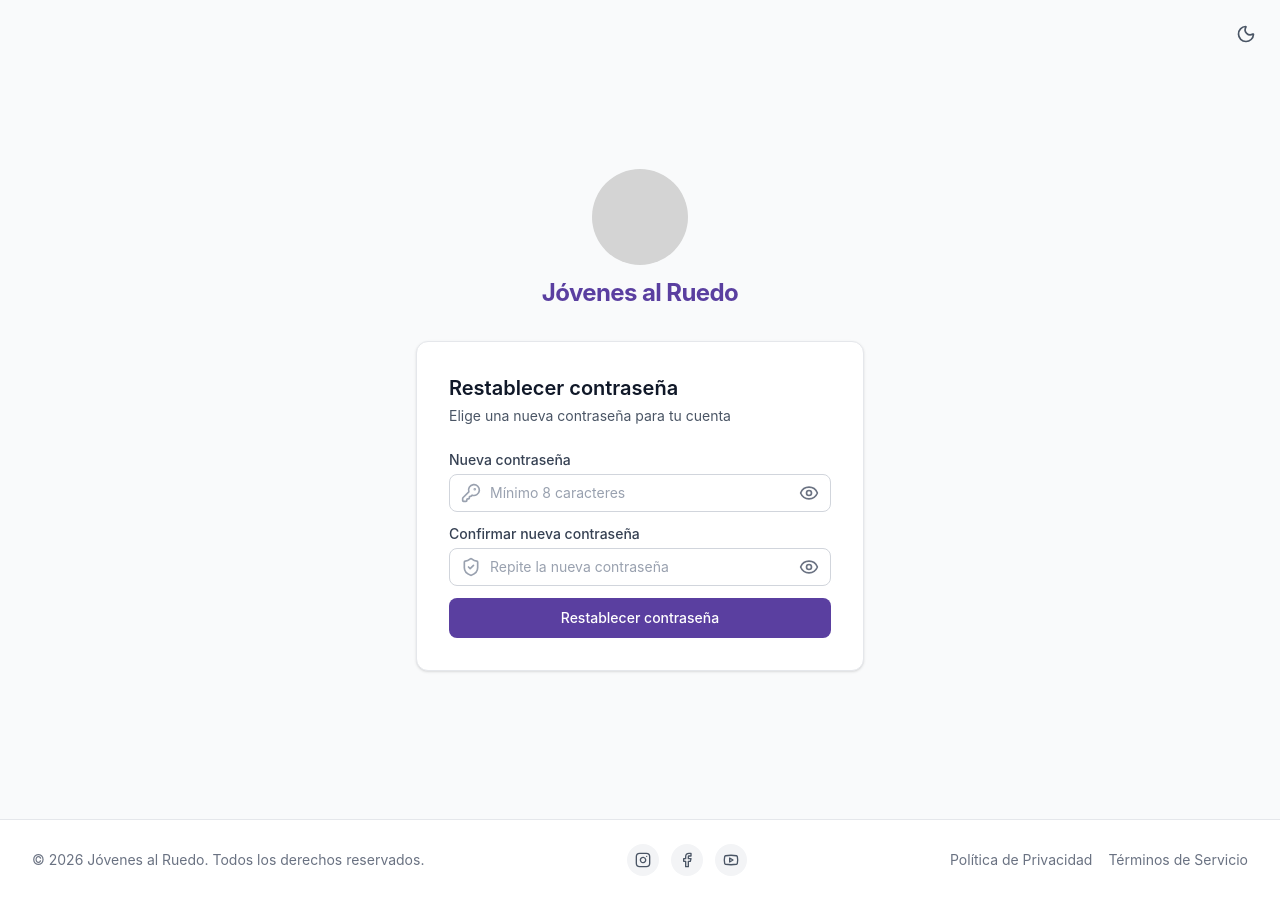
Test: ResetPasswordPage › muestra mensaje de éxito al restablecer contraseña
The width and height of the screenshot is (1280, 900).
Type "NewPass1!" into the password field labelled "Nueva contraseña" at coordinates (640, 492), box [449,474,831,512]
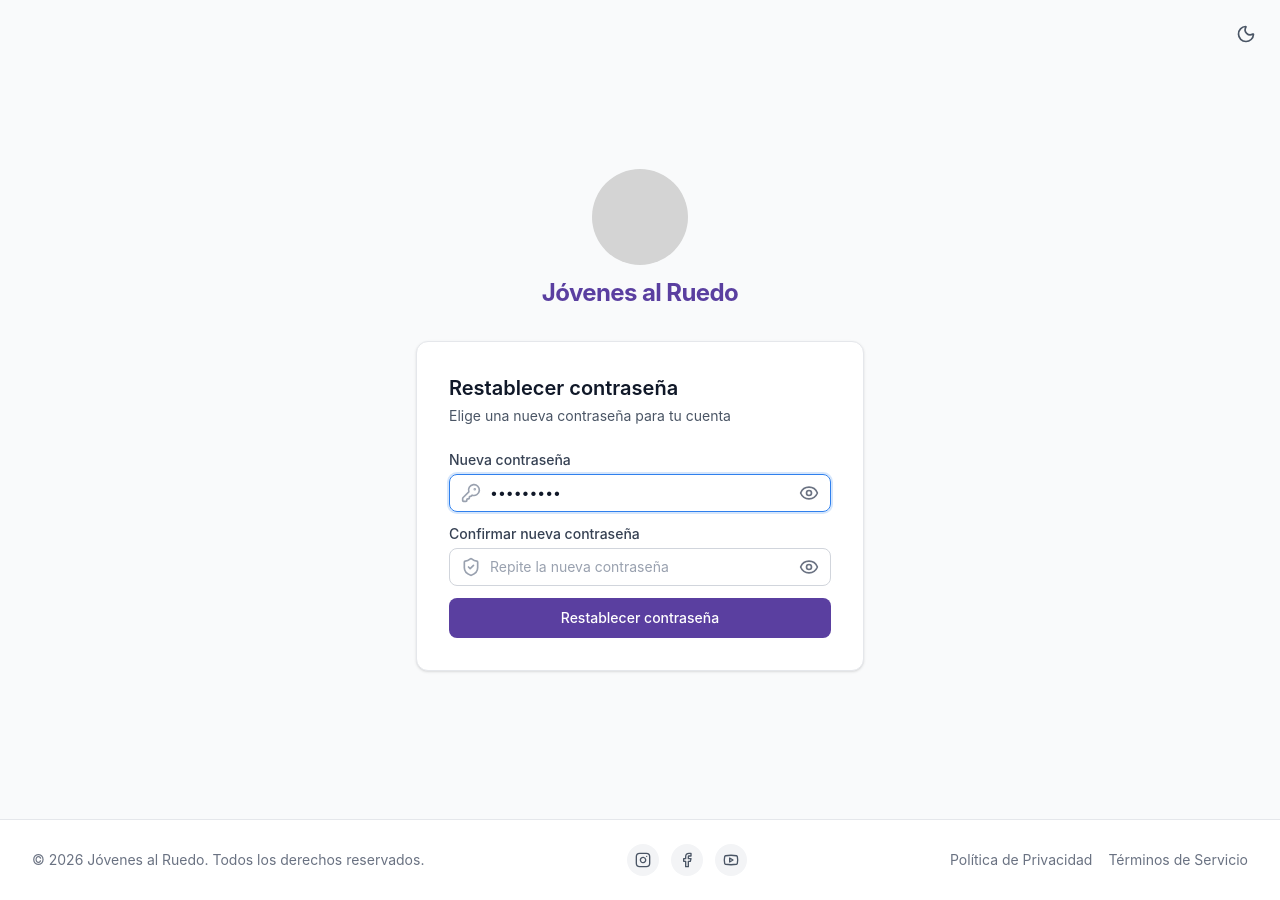
Type "NewPass1!" into the password field labelled "Confirmar nueva contraseña" at coordinates (640, 566), box [449,548,831,586]
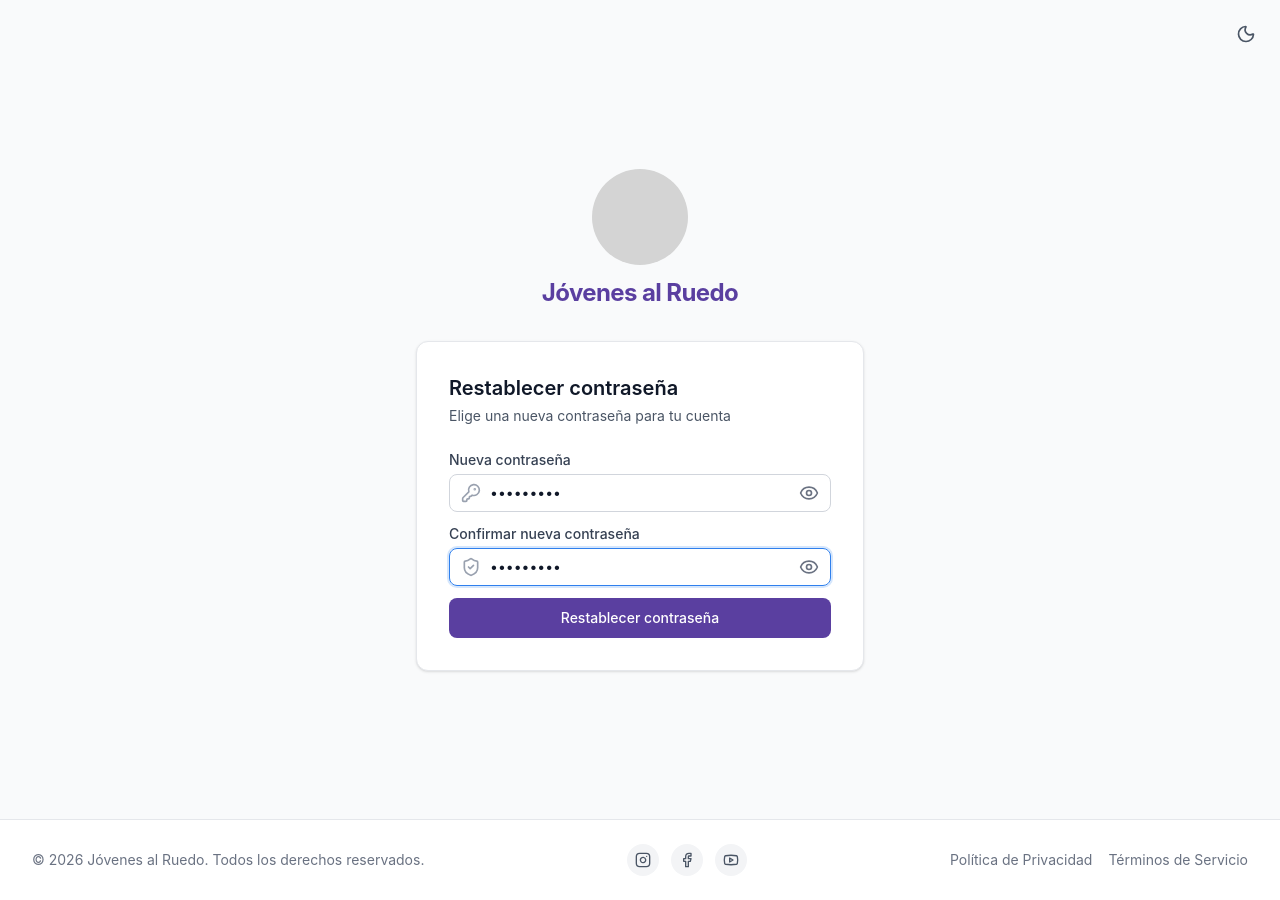
Click the button "Restablecer contraseña" at coordinates (640, 618), box [449,598,831,638]
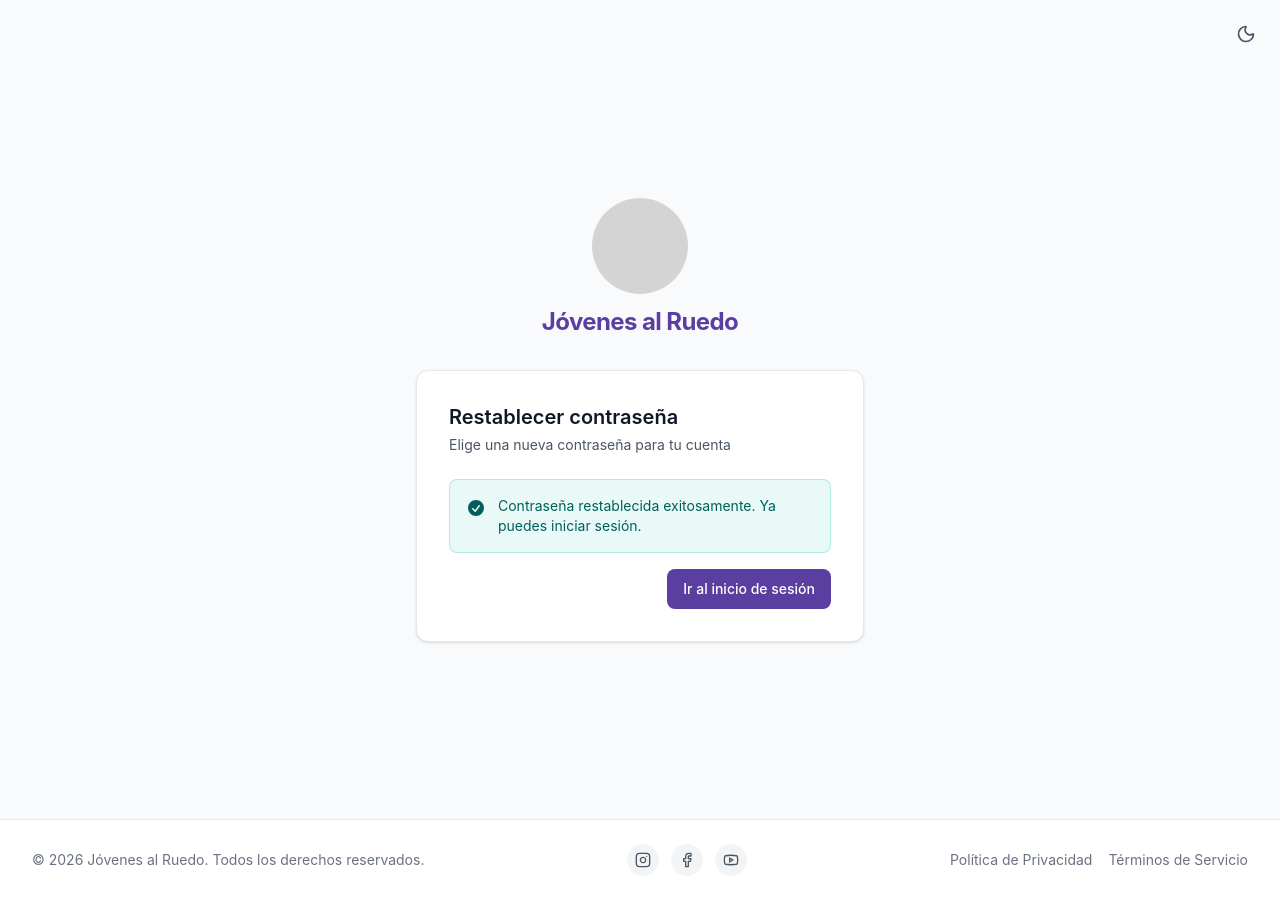
Expected: the text "Contraseña restablecida exitosamente. Ya puedes iniciar sesión." is shown, [498,496,814,536]
